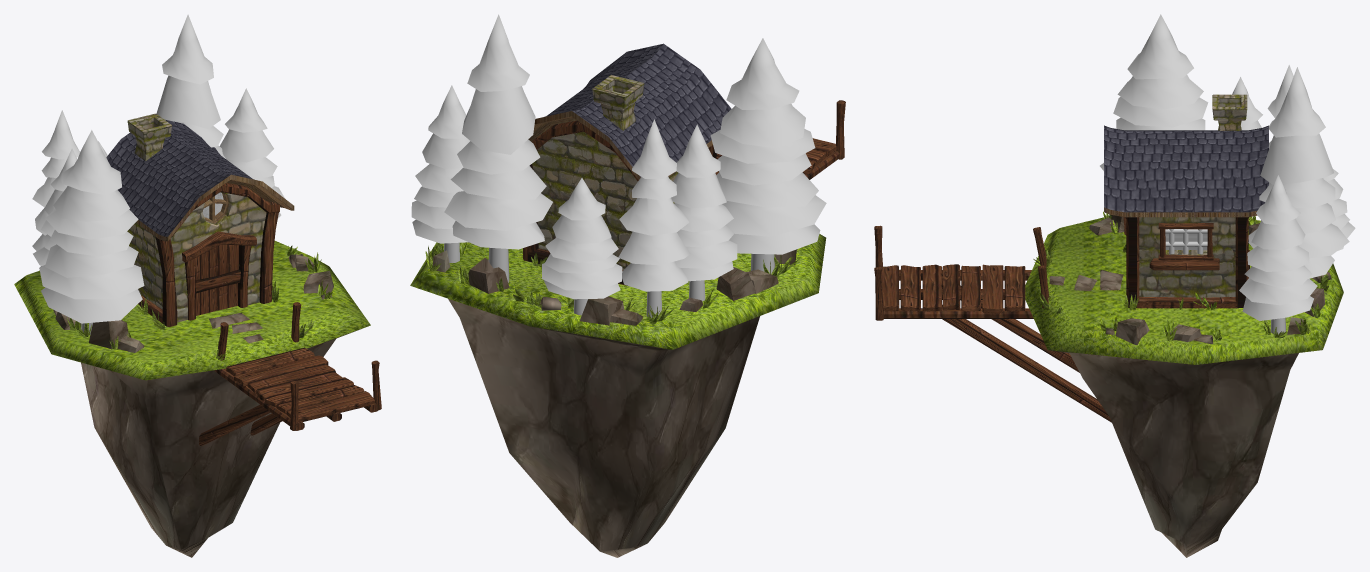
Rendered from tiny cabin.fbx.
3 views of the same model, side by side, from view 1: azimuth 30°, elevation 25°; view 2: azimuth 150°, elevation 25°; view 3: azimuth 270°, elevation 25° (orthographic). The views are drawn at different scales.
Visible parts, largest first — view 1: TinyCabinFantasy_Textured_Scene; view 2: TinyCabinFantasy_Textured_Scene; view 3: TinyCabinFantasy_Textured_Scene.
Boxes of the visible parts, box(x1,y1,x2,y2) form: TinyCabinFantasy_Textured_Scene: box(14, 14, 381, 557); TinyCabinFantasy_Textured_Scene: box(410, 14, 845, 557); TinyCabinFantasy_Textured_Scene: box(874, 14, 1355, 557).
Size of the model in its own units: 673 by 1054 by 891.
